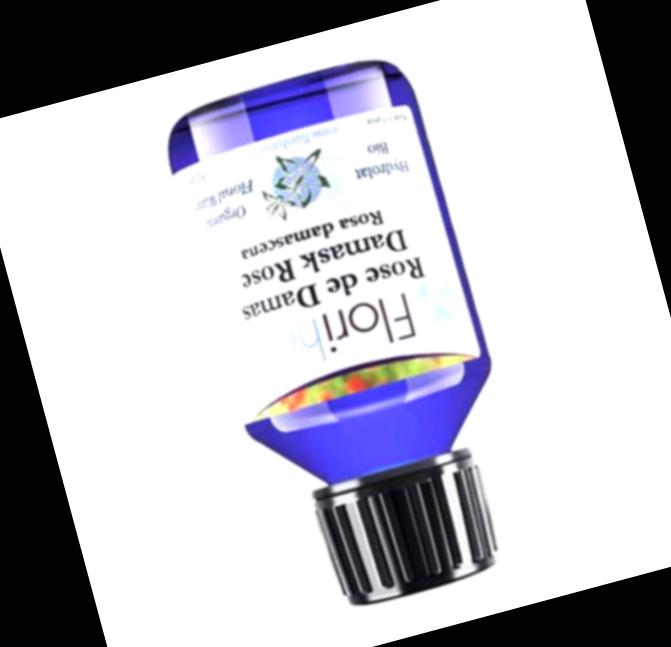cosmetic: (155, 49, 548, 629)
